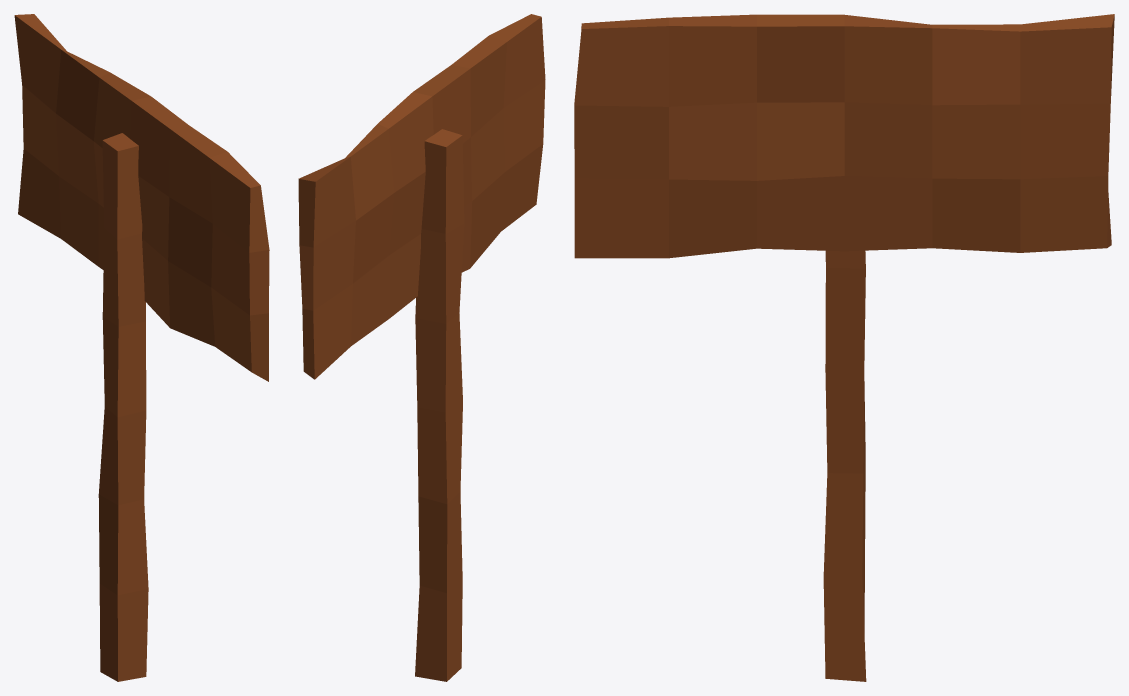
Rendered from будівлі.fbx.
3 renders of one model, left to right at view 1: azimuth 30°, elevation 25°; view 2: azimuth 150°, elevation 25°; view 3: azimuth 270°, elevation 25°, orthographic. The views are drawn at different scales.
Visible parts, largest first — view 1: Куб.116; view 2: Куб.116; view 3: Куб.116.
Boxes of the visible parts, x1,y1,x2,y2 form: Куб.116: (14,14,269,681); Куб.116: (298,14,545,681); Куб.116: (574,14,1114,681).
Size of the model in its own units: 216 by 2459 by 1817.
